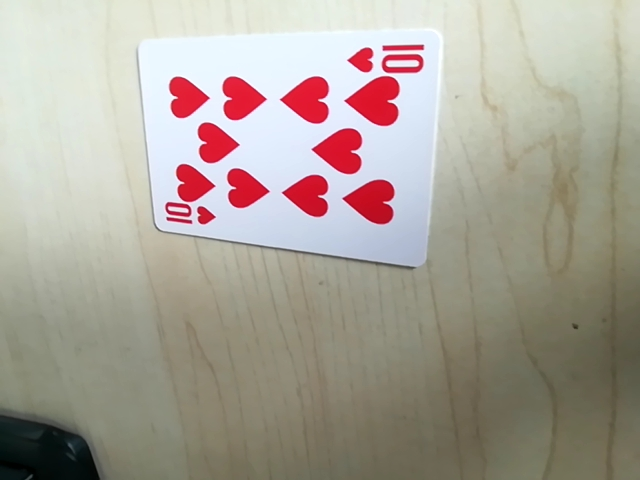hx 10: (348, 34, 428, 77), (156, 203, 219, 235)
